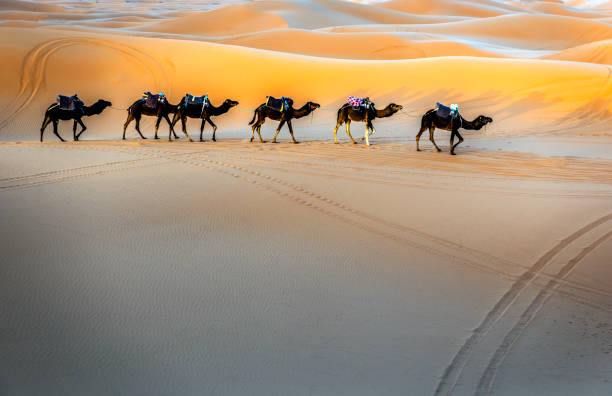vehicle_track: (434, 213, 611, 395), (0, 36, 168, 128), (475, 279, 559, 395)
